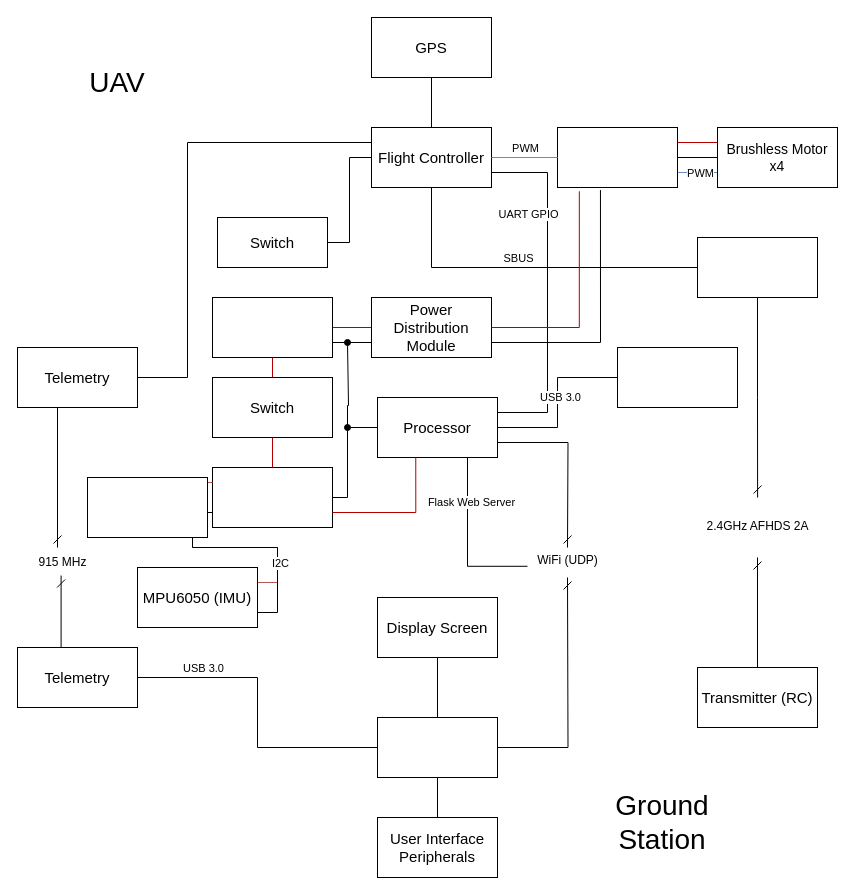
This 855x895 diagram has some shape labels left out. The centre of each missing label's shape, as x and y in pixels:
Battery Eliminator Circuit (BEC): (x=272, y=497)
Camera Gimbal: (x=147, y=507)
Electronic Speed Controller (ESC) x4: (x=617, y=157)
LiPo 15V: (x=272, y=327)
PC: (x=437, y=747)
Receiver (RC): (x=757, y=267)
RGB-D Camera: (x=677, y=377)
